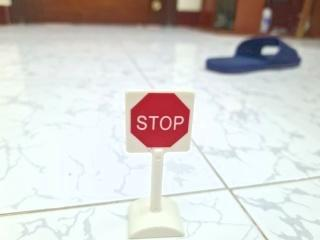stop: (119, 82, 203, 160)
